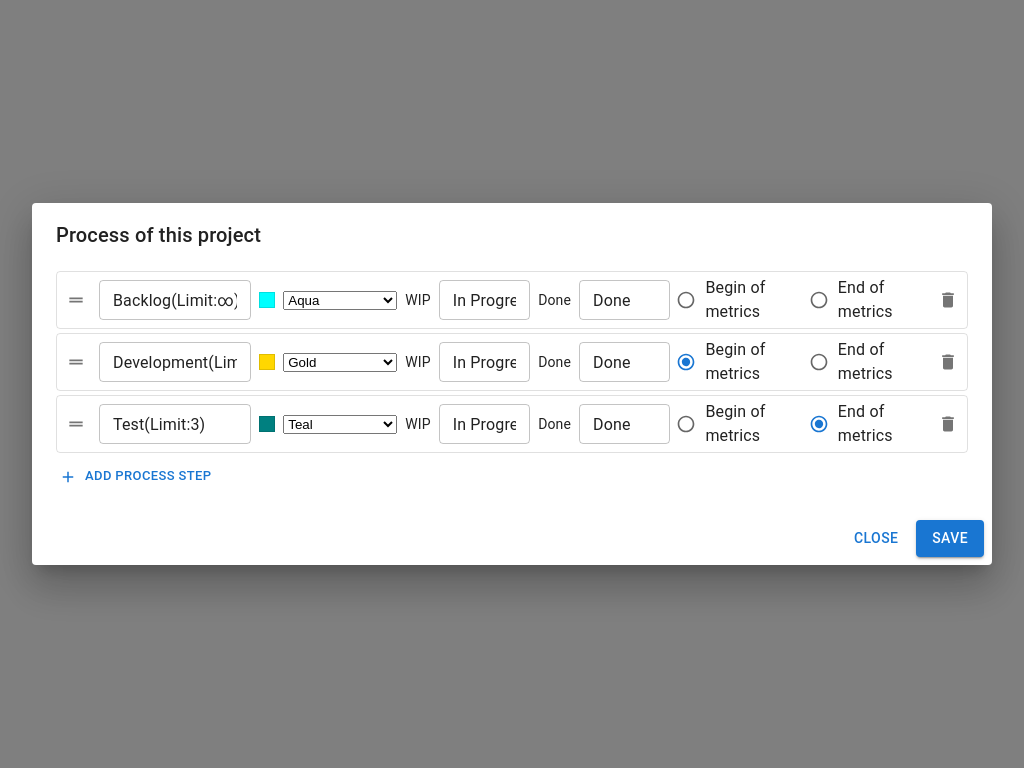
Test case: 409 from the server renders the localized conflict text and refetches the steps
This screenshot has width=1024, height=768.
Expected: the field with test id "step-name-0" is shown, 99,280 -> 251,320
Click the button with test id "step-save-button" at [950, 538], box 916,520 -> 984,557
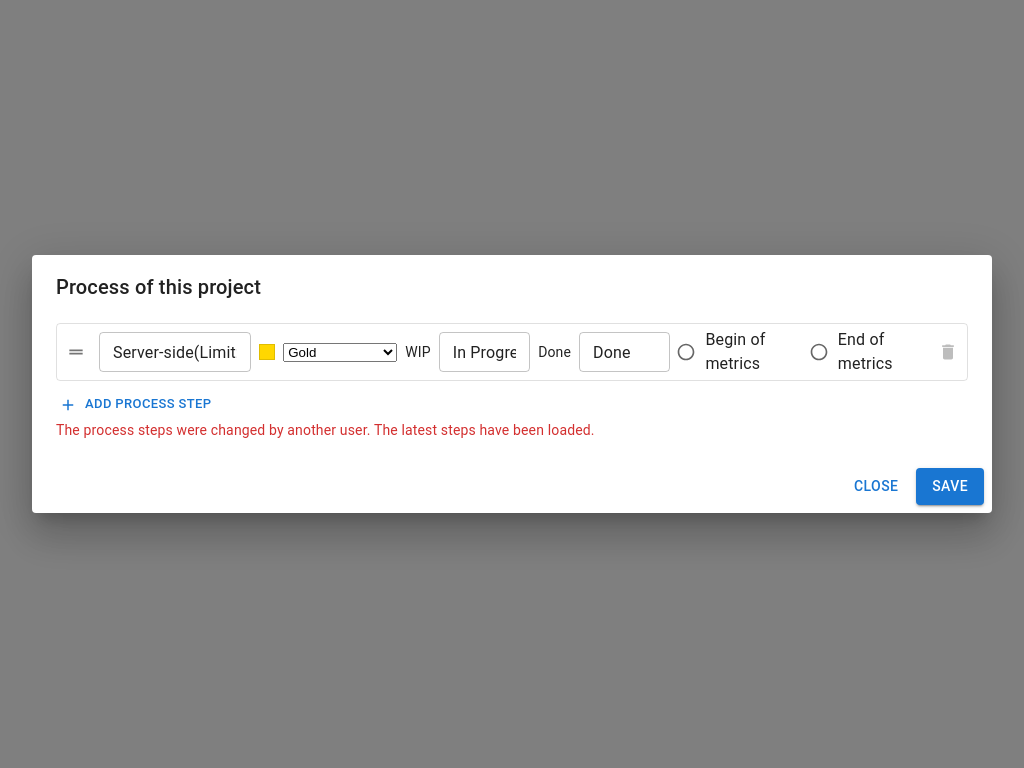
Expected: the text with test id "process-step-error" shows "process steps were changed by another user", 56,422 -> 595,438
Expected: the field with test id "step-name-0" holds "Server-side(Limit:1)", 99,332 -> 251,372
Expected: the field with test id "step-name-1" is gone
Click the button with test id "step-save-button" at [950, 486], box 916,468 -> 984,505
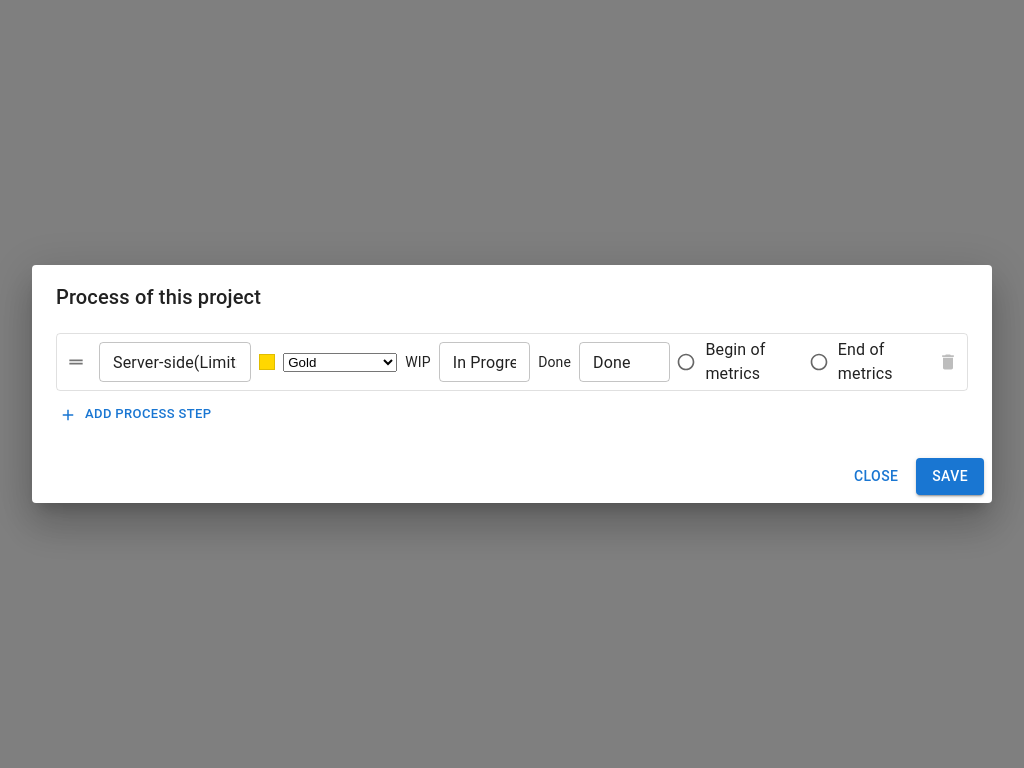
Expected: the text with test id "process-step-error" is gone
